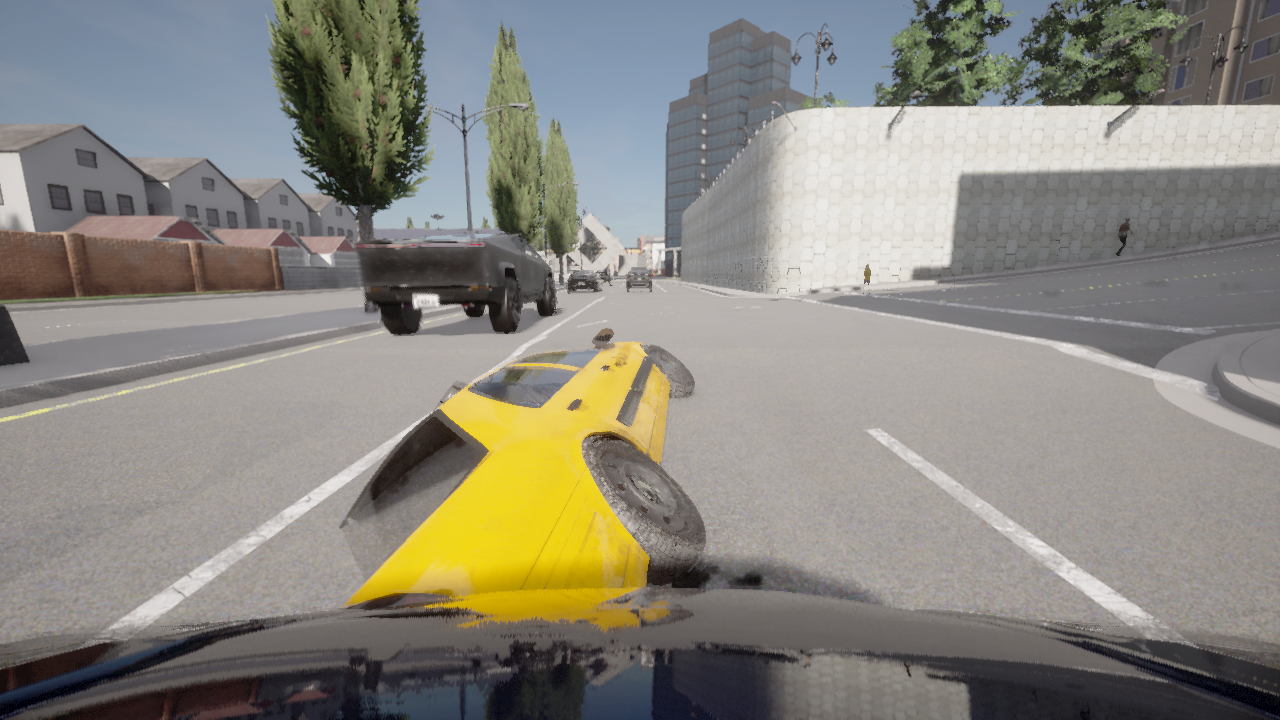cyclist: (0, 588, 1279, 719), (338, 327, 704, 610), (354, 232, 557, 336), (567, 271, 602, 292), (626, 268, 652, 292), (594, 269, 613, 286)
pedestrian: (1115, 217, 1134, 256), (862, 263, 871, 296)
